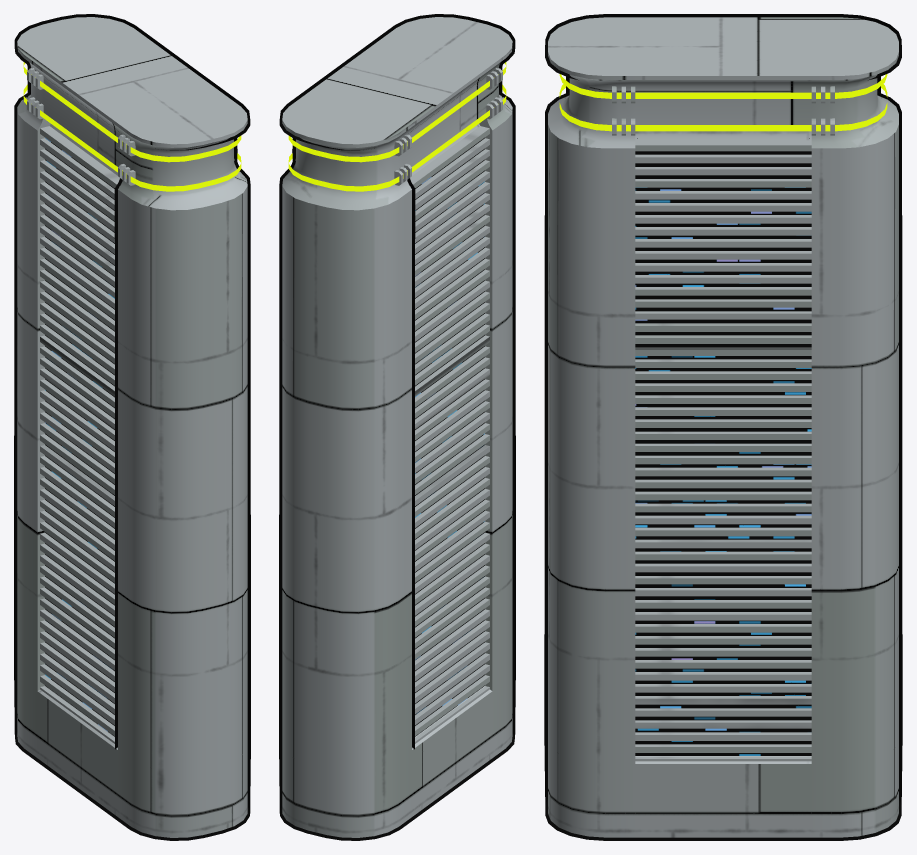
File: BuildingProp.glb
3 views of the same model, side by side, from view 1: azimuth 30°, elevation 25°; view 2: azimuth 150°, elevation 25°; view 3: azimuth 270°, elevation 25° (orthographic). The views are drawn at different scales.
Parts seen in each view (by area): view 1: Cube.020, Cube.065, Cube.009, Cube.012, Cube.019; view 2: Cube.020, Cube.065, Cube.009, Cube.012, Cube.019; view 3: Cube.020, Cube.065, Cube.012, Cube.009, Cube.019.
Part boxes in pixels (left/top/right/bottom): Cube.020: left=17, top=17, right=247, bottom=837; Cube.065: left=27, top=68, right=237, bottom=743; Cube.009: left=14, top=14, right=250, bottom=840; Cube.012: left=45, top=137, right=114, bottom=736; Cube.019: left=23, top=62, right=241, bottom=191; Cube.020: left=282, top=17, right=512, bottom=837; Cube.065: left=292, top=68, right=502, bottom=743; Cube.009: left=279, top=14, right=515, bottom=840; Cube.012: left=415, top=137, right=484, bottom=736; Cube.019: left=288, top=62, right=506, bottom=191; Cube.020: left=548, top=17, right=898, bottom=837; Cube.065: left=612, top=86, right=834, bottom=761; Cube.012: left=635, top=151, right=811, bottom=755; Cube.009: left=544, top=14, right=902, bottom=840; Cube.019: left=559, top=74, right=887, bottom=131.
Size of the model in its own units: 7.15 by 41.41 by 17.55.
4 materials, 2 textured.
